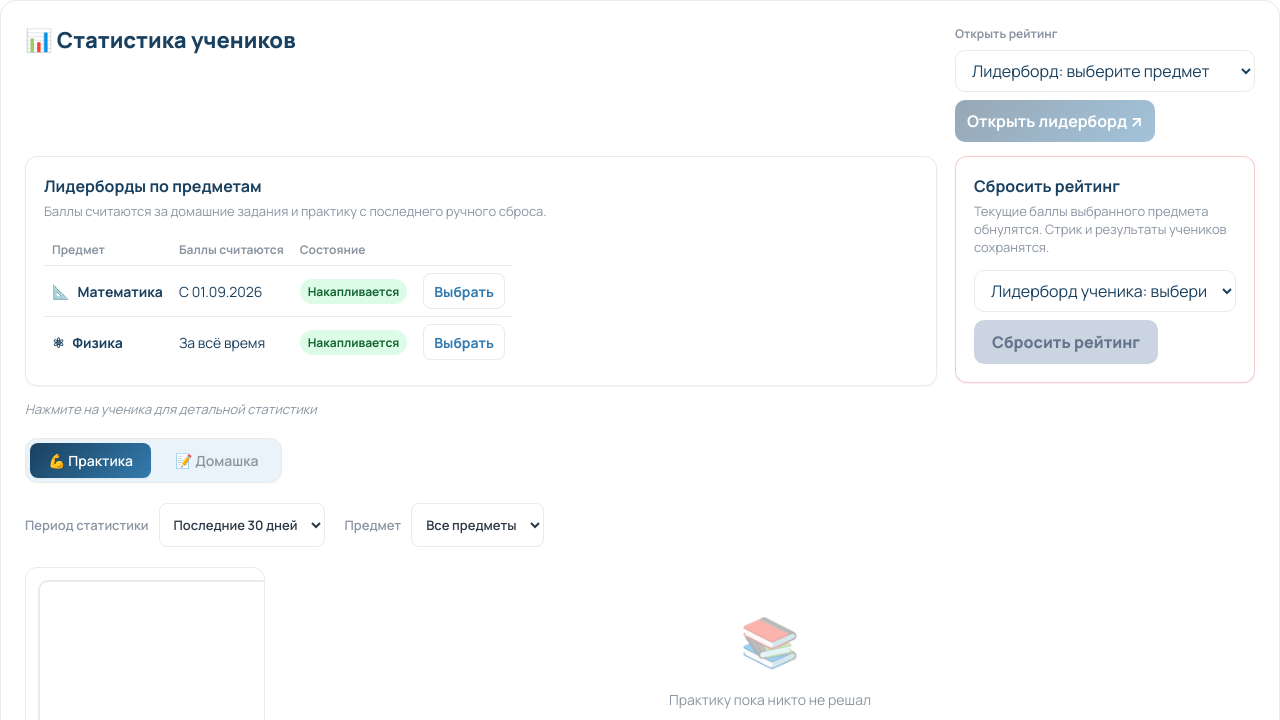
Test: преподаватель сбрасывает рейтинг выбранного предмета после подтверждения
The image size is (1280, 720).
Expected: the heading "Лидерборды по предметам" is shown, [44,175,262,197]
Expected: the text "С 01.09.2026" is shown, [171,266,292,316]
Click the button "Выбрать" in the row of "Математика" at (464, 291), box [423,273,505,309]
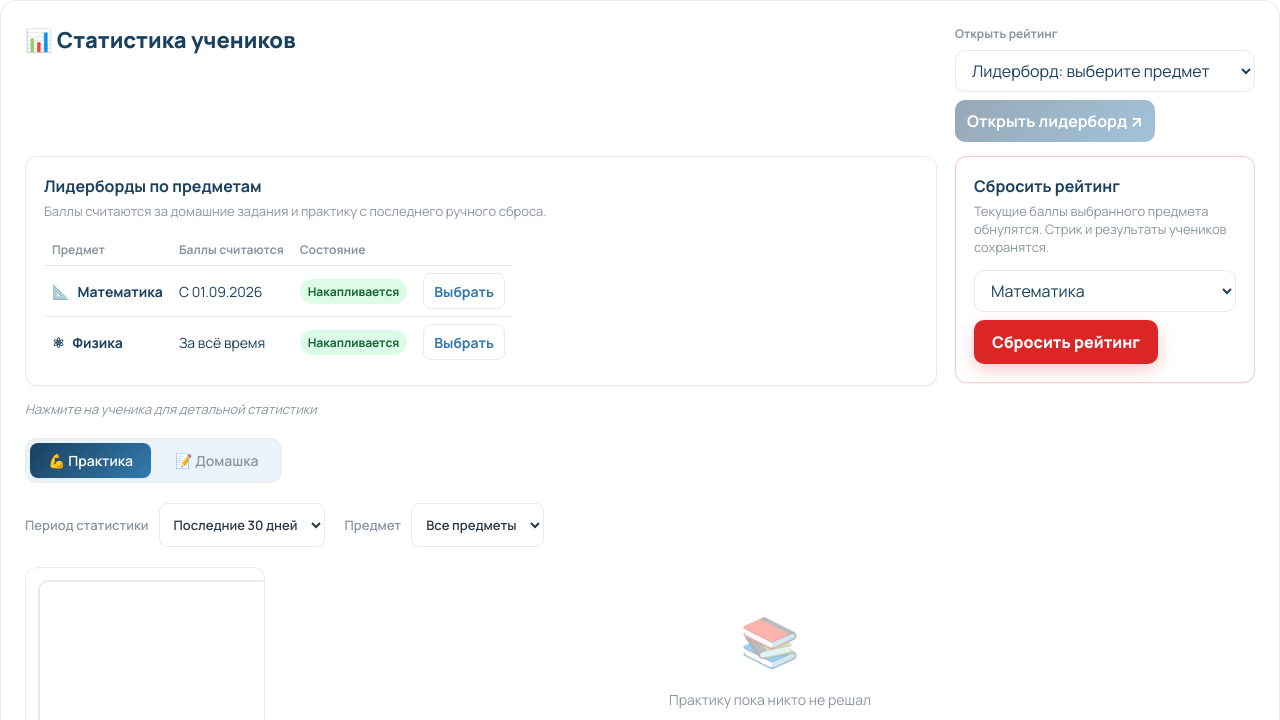
Now the dropdown named "Предмет лидерборда ученика" shows "Математика", box [974,270,1236,312]
Now the button "Сбросить рейтинг" is enabled
Click the button "Сбросить рейтинг" at (1066, 342), box [974,320,1158,364]
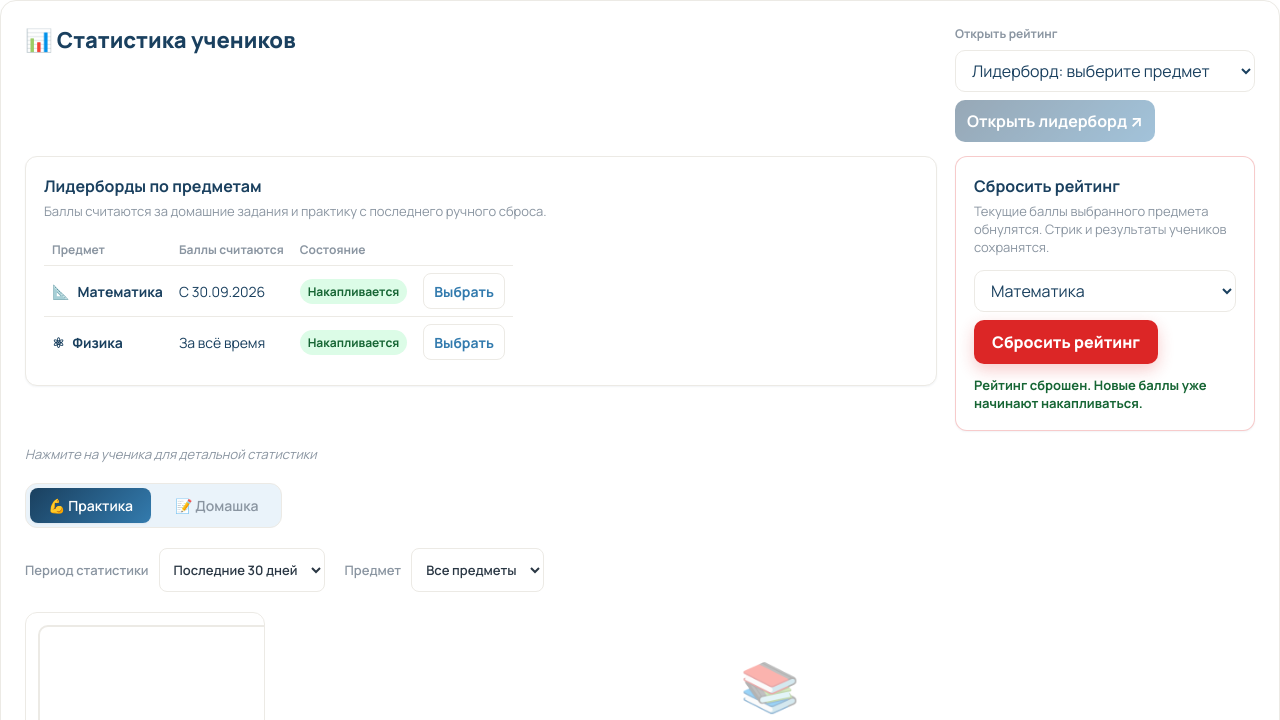
Now the text "Рейтинг сброшен. Новые баллы уже начинают накапливаться." is shown, box [974,376,1236,412]
Now the text "С 30.09.2026" is shown, box [171,266,292,316]
